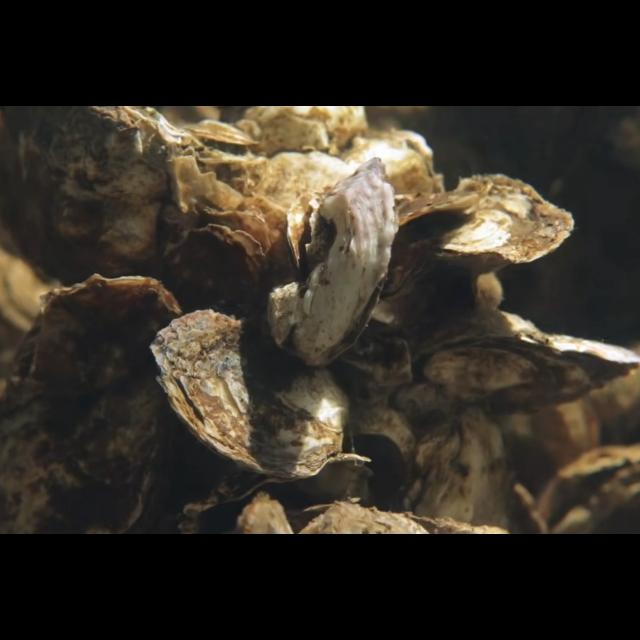Oyster-Closed: (0, 272, 184, 534), (0, 106, 220, 288), (147, 308, 353, 482), (264, 157, 398, 369), (382, 175, 576, 302), (392, 405, 516, 535), (161, 222, 267, 326)
Oyster-Open: (410, 311, 640, 423), (196, 453, 370, 535), (536, 448, 640, 534), (169, 120, 263, 168)
